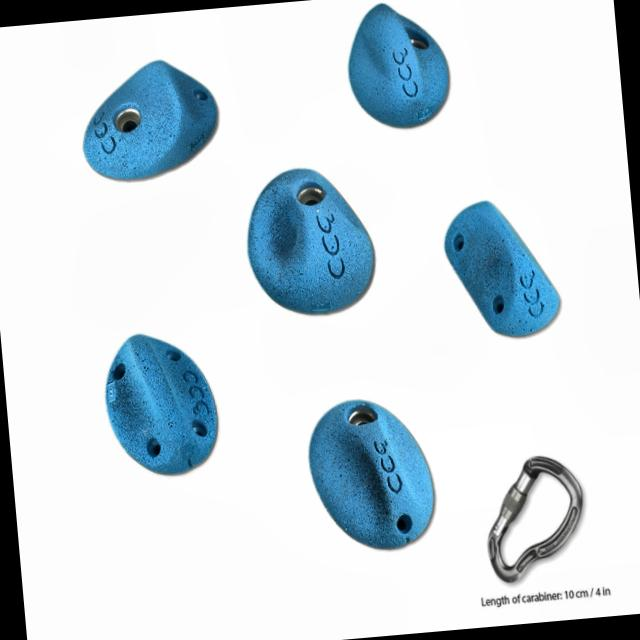Hold: (236, 160, 381, 320), (300, 392, 438, 558), (68, 56, 224, 182), (101, 322, 222, 478), (434, 194, 562, 341), (343, 0, 453, 131)
